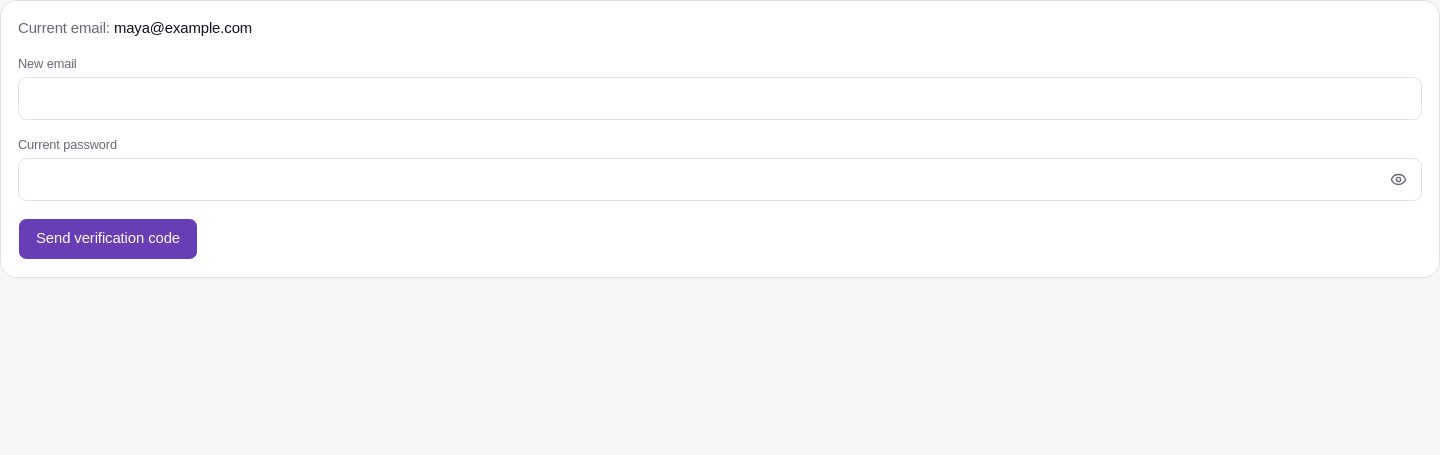
ChangeEmailForm › moves to the code step after successfully requesting a change
In the field labelled "New email": (720, 99) [18,78,1422,120], type "new@example.com"
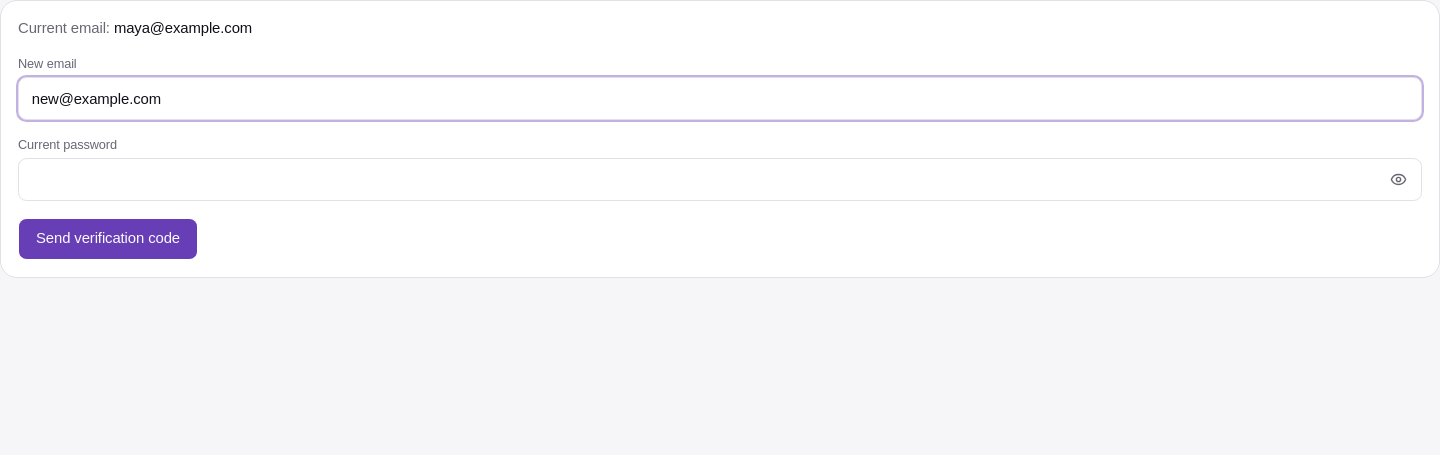
In the password field labelled "Current password": (720, 179) [18,158,1422,201], type "currentpass"
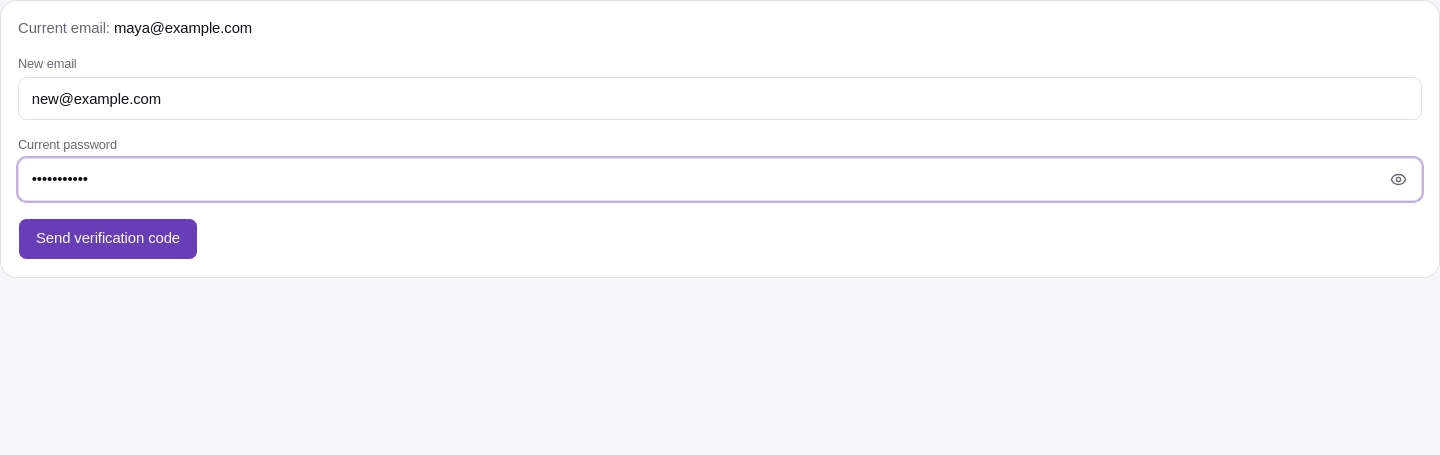
Click the button "Send verification code": (108, 239) [18,218,198,260]
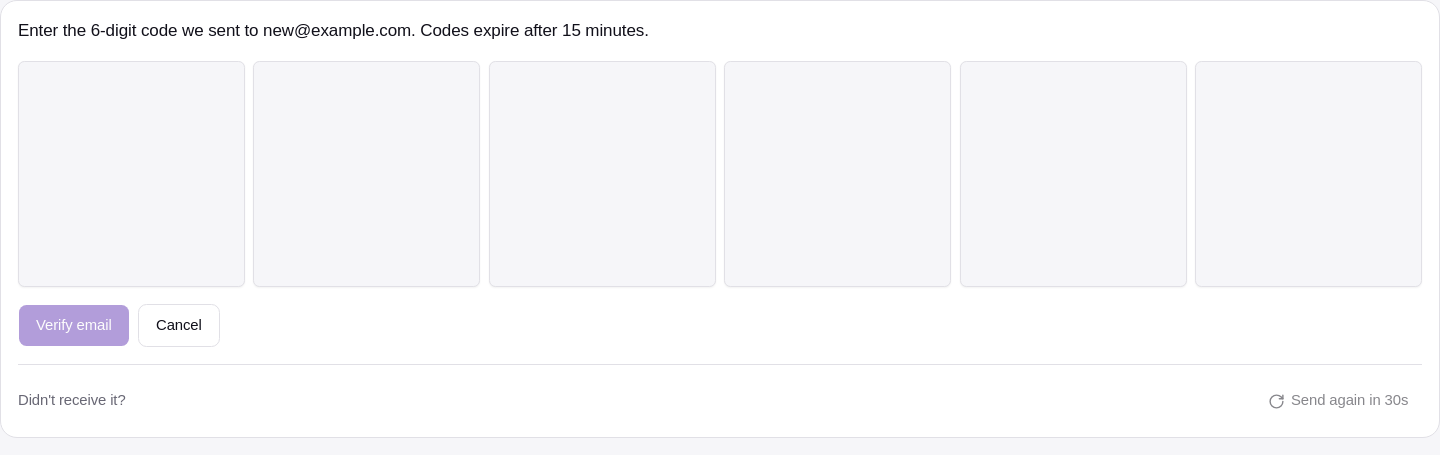
expect the text "Enter the 6-digit code we sent to" is shown: met, box [18,21,263,40]
expect the text "new@example.com" is shown: met, box [263,21,411,40]
